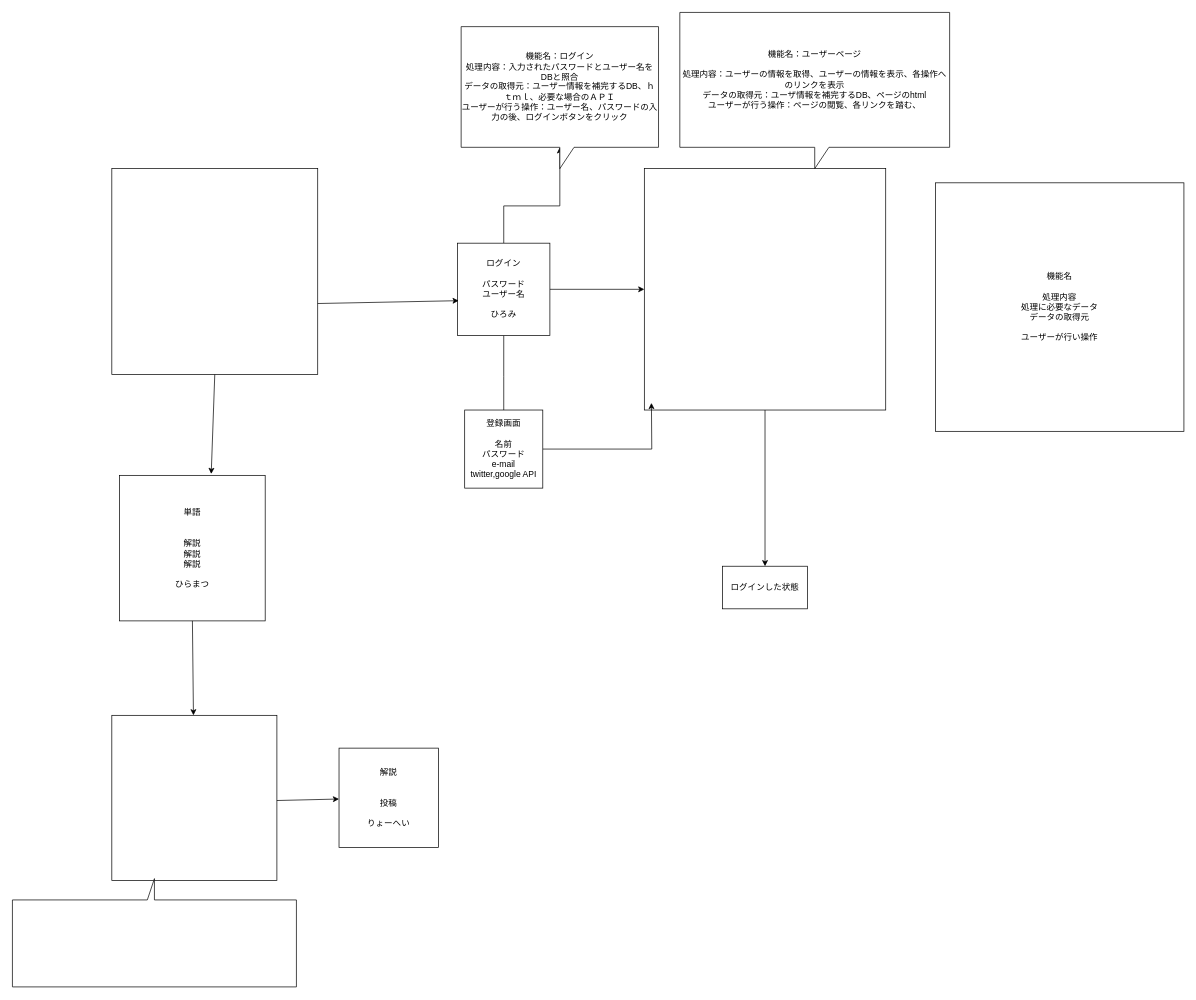
This 1196x1000 diagram has some shape labels left out. Here are the shapes that lost their labels. From the top down, the centre of each, then its label:
At pixel 214 271: "ホーム画面 検索窓 単語がずらり ひらまつ".
At pixel 765 289: "ユーザーページ ユーザー名 過去の投稿一覧 ログアウト s".
At pixel 194 797: "単語の解説 書き込むアイコン りょーへい".
At pixel 154 932: "昨日".
